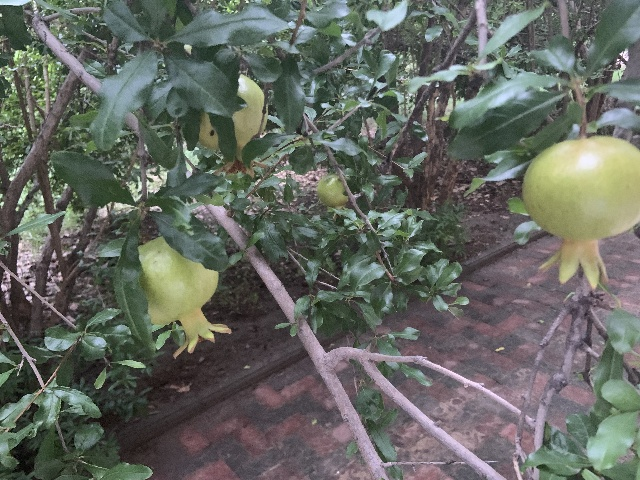mid-growth: (520, 135, 640, 290), (137, 236, 232, 358), (197, 75, 268, 179), (316, 172, 348, 221)
